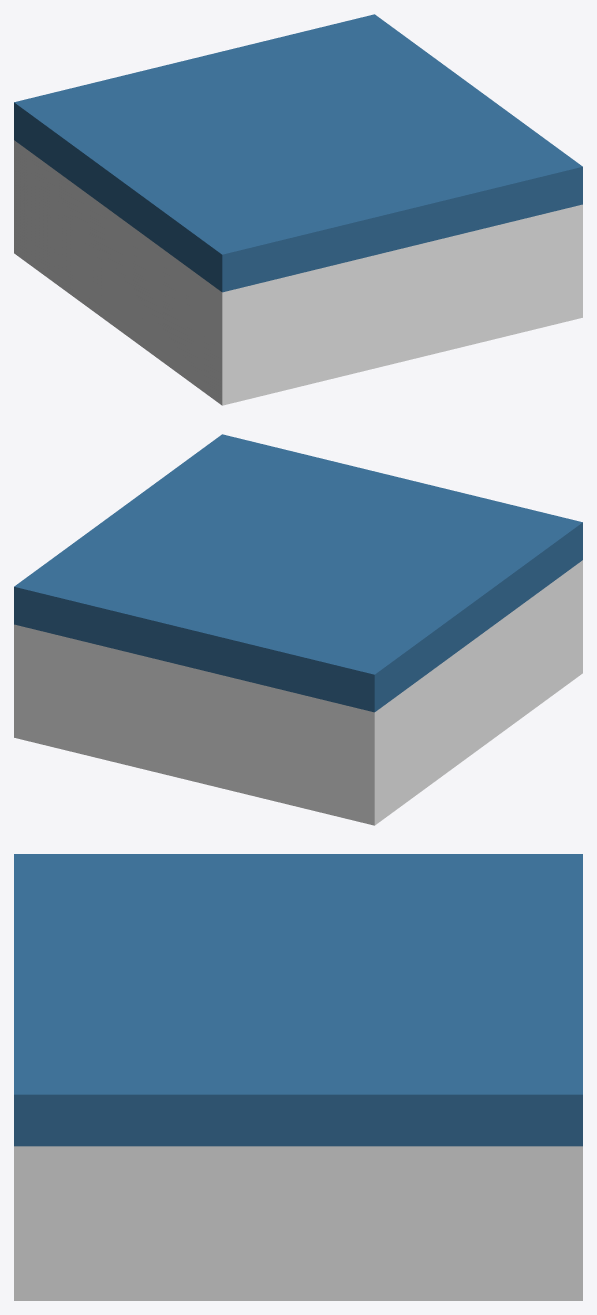
File: buildings_pool-part-middle-1x1m.fbx
The picture shows the model from 3 angles, top to bottom: view 1: azimuth 30°, elevation 25°; view 2: azimuth 150°, elevation 25°; view 3: azimuth 270°, elevation 25°; orthographic projection. The views are drawn at different scales.
Parts seen in each view (by area): view 1: buildings_pool_part_middle_1x1m; view 2: buildings_pool_part_middle_1x1m; view 3: buildings_pool_part_middle_1x1m.
Part boxes in pixels (box(x1,y1,x2,y2)): buildings_pool_part_middle_1x1m: box(14, 14, 582, 405); buildings_pool_part_middle_1x1m: box(14, 434, 582, 825); buildings_pool_part_middle_1x1m: box(14, 854, 582, 1300).
Size of the model in its own units: 125 by 50 by 125.
